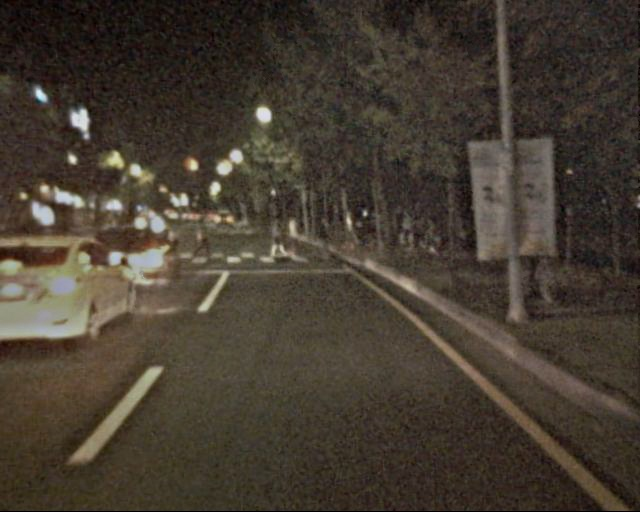person: (366, 207, 422, 248), (189, 208, 217, 260), (448, 204, 471, 254), (281, 209, 302, 259), (266, 214, 287, 261), (316, 209, 336, 258)
